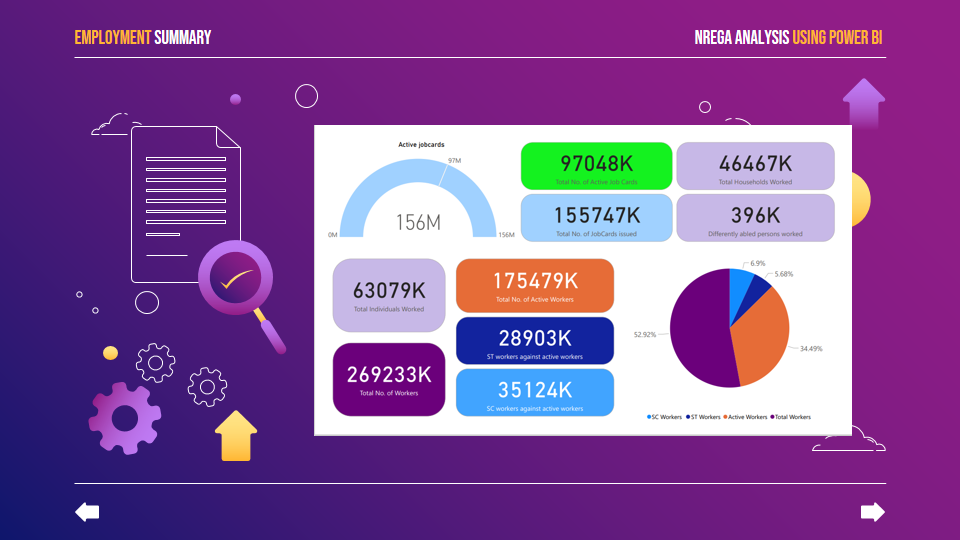

The dashboard page shown, as its layout file describes it:
{"tool":"powerbi","page":{"name":"Employment summary","canvas":[1280,720],"ordinal":0},"visuals":[{"type":"cardVisual","fields":{"Data":["Sum(NREGA.Total No. of JobCards issued)"]},"box":[480,144,384,128],"z":0},{"type":"cardVisual","fields":{"Data":["Sum(NREGA.Total No. of Workers)"]},"box":[16,512,288,192],"z":1000},{"type":"cardVisual","fields":{"Data":["Sum(NREGA.Total No. of Active Job Cards)"]},"box":[480,16,384,128],"z":2000},{"type":"cardVisual","fields":{"Data":["Sum(NREGA.Total No. of Active Workers)"]},"box":[320,304,400,144],"z":3000},{"type":"cardVisual","fields":{"Data":["Sum(NREGA.SC workers against active workers)"]},"box":[320,576,400,128],"z":4000},{"type":"cardVisual","fields":{"Data":["Sum(NREGA.ST workers against active workers)"]},"box":[320,448,400,128],"z":5000},{"type":"cardVisual","fields":{"Data":["Sum(NREGA.Total Individuals Worked)"]},"box":[16,304,288,192],"z":6000},{"type":"cardVisual","fields":{"Data":["Sum(NREGA.Differently abled persons worked)"]},"box":[864,144,400,128],"z":7000},{"type":"cardVisual","fields":{"Data":["Sum(NREGA.Total Households Worked)"]},"box":[864,16,400,128],"z":8000},{"type":"gauge","title":"Active jobcards","fields":{"Y":["Sum(NREGA.Total No. of JobCards issued)"],"TargetValue":["Sum(NREGA.Total No. of Active Job Cards)"],"MaxValue":["Sum(NREGA.Total No. of JobCards issued)"]},"box":[0,16,480,256],"z":9000},{"type":"pieChart","fields":{"Y":["Sum(NREGA.SC workers against active workers)","Sum(NREGA.ST workers against active workers)","Sum(NREGA.Total No. of Active Workers)","Sum(NREGA.Total No. of Workers)"]},"box":[720,272,560,448],"z":10000}]}

Visuals, with their boxes in screenshot pixels (x1, y1, x2, y2), scaled from the page's 1280x720 canvas onto the 960x540 screenshot:
cardVisual - Sum(NREGA.Total No. of JobCards issued): 360/108/648/204
cardVisual - Sum(NREGA.Total No. of Workers): 12/384/228/528
cardVisual - Sum(NREGA.Total No. of Active Job Cards): 360/12/648/108
cardVisual - Sum(NREGA.Total No. of Active Workers): 240/228/540/336
cardVisual - Sum(NREGA.SC workers against active workers): 240/432/540/528
cardVisual - Sum(NREGA.ST workers against active workers): 240/336/540/432
cardVisual - Sum(NREGA.Total Individuals Worked): 12/228/228/372
cardVisual - Sum(NREGA.Differently abled persons worked): 648/108/948/204
cardVisual - Sum(NREGA.Total Households Worked): 648/12/948/108
"Active jobcards" gauge: 0/12/360/204
pieChart - Sum(NREGA.SC workers against active workers) x Sum(NREGA.ST workers against active workers): 540/204/959/539
